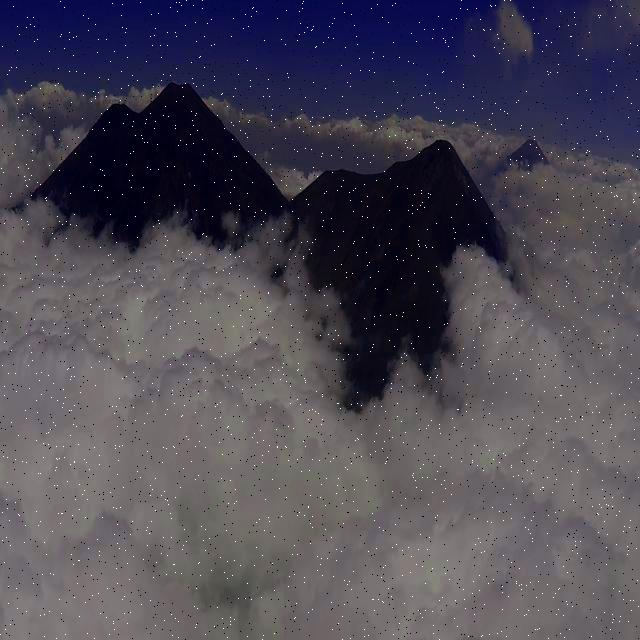Plume: (490, 0, 532, 67)
Summit: (384, 137, 476, 190)
